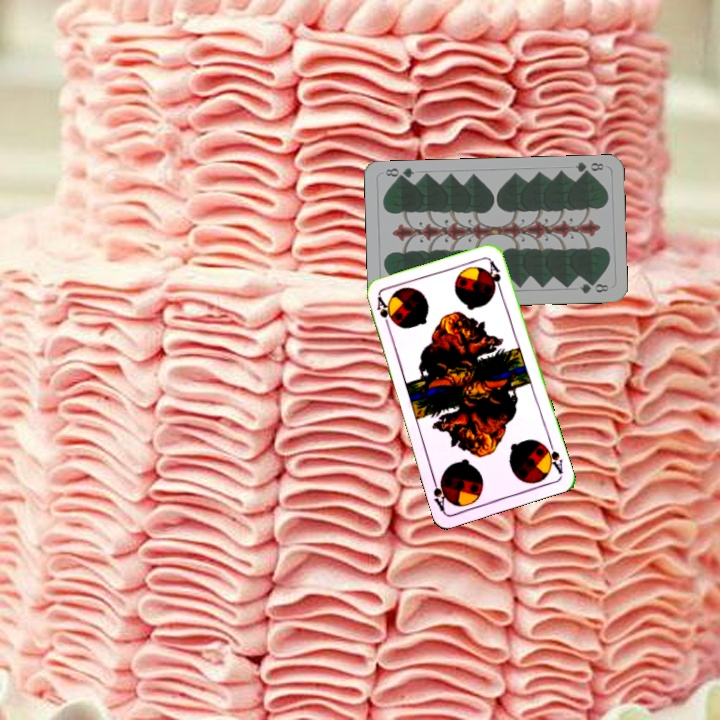G8: (571, 158, 606, 178)
SA: (539, 437, 566, 477), (373, 293, 395, 333)
